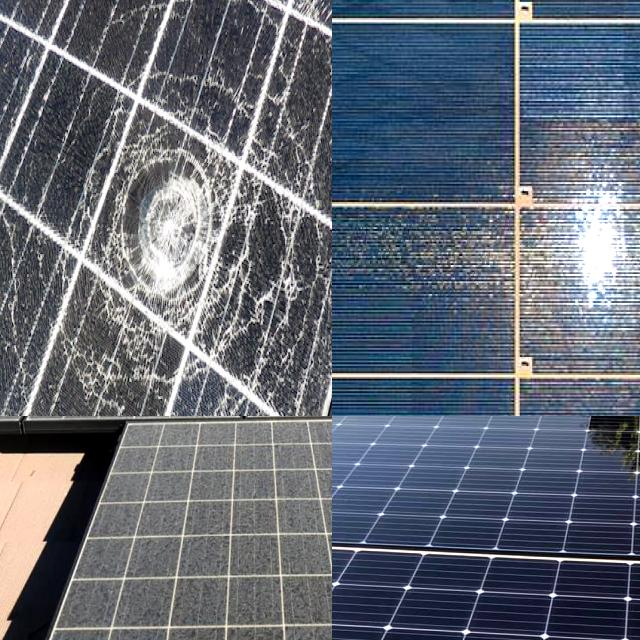crack: (332, 416, 640, 584), (332, 524, 640, 640), (332, 416, 640, 475)
dust: (246, 429, 332, 576), (125, 426, 228, 540), (193, 577, 332, 640), (107, 416, 229, 464), (267, 416, 332, 467), (197, 416, 300, 444), (67, 617, 185, 640), (89, 416, 173, 440), (0, 416, 36, 468), (125, 580, 168, 620), (0, 416, 31, 438)
hotspot: (98, 119, 240, 342), (263, 17, 332, 352), (75, 375, 250, 416)
shadow: (508, 120, 640, 383), (332, 197, 501, 302)
